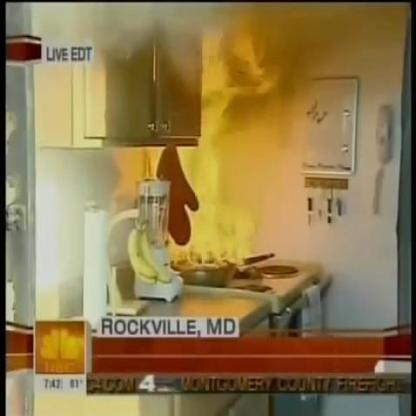fire: (172, 90, 250, 270)
